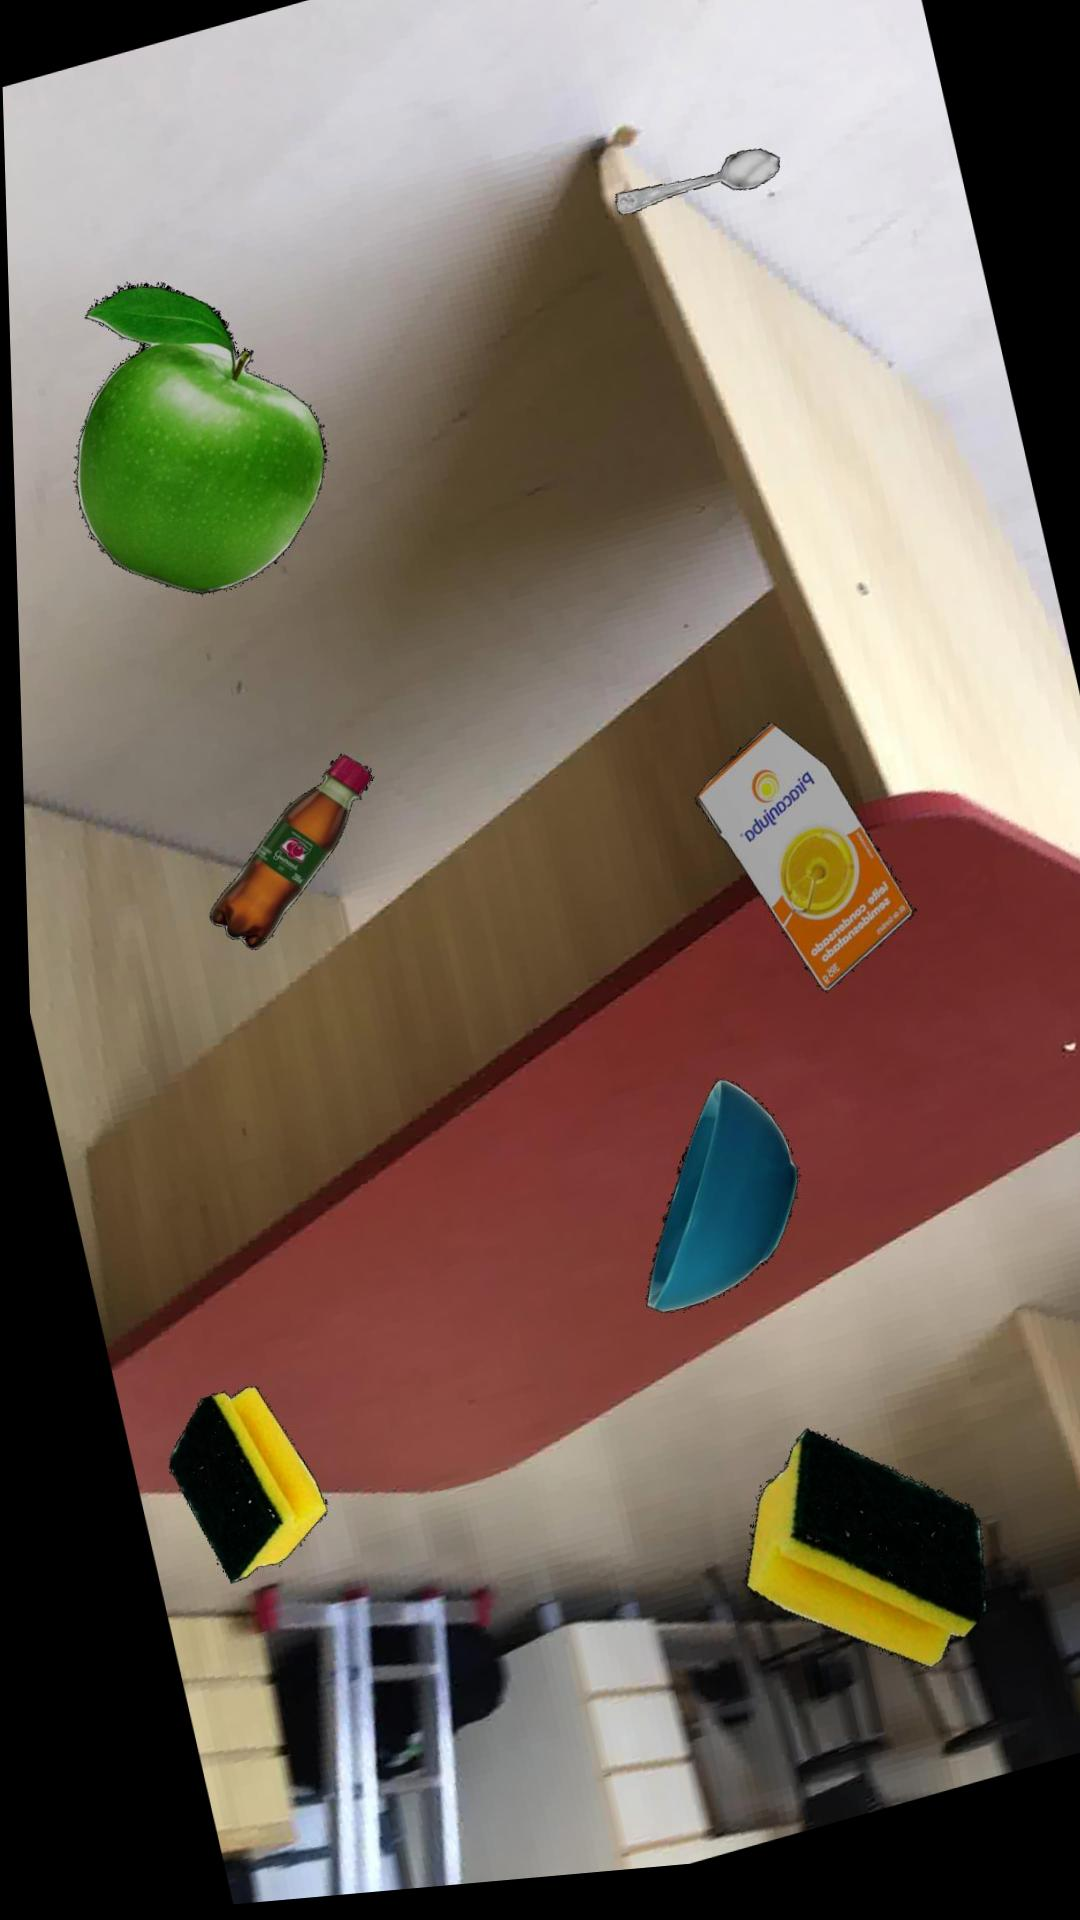bowl: (640, 1095, 793, 1325)
green apple: (74, 286, 326, 599)
guarana: (206, 761, 369, 955)
sponge: (737, 1444, 978, 1685), (161, 1391, 320, 1588)
spoon: (616, 164, 781, 227)
